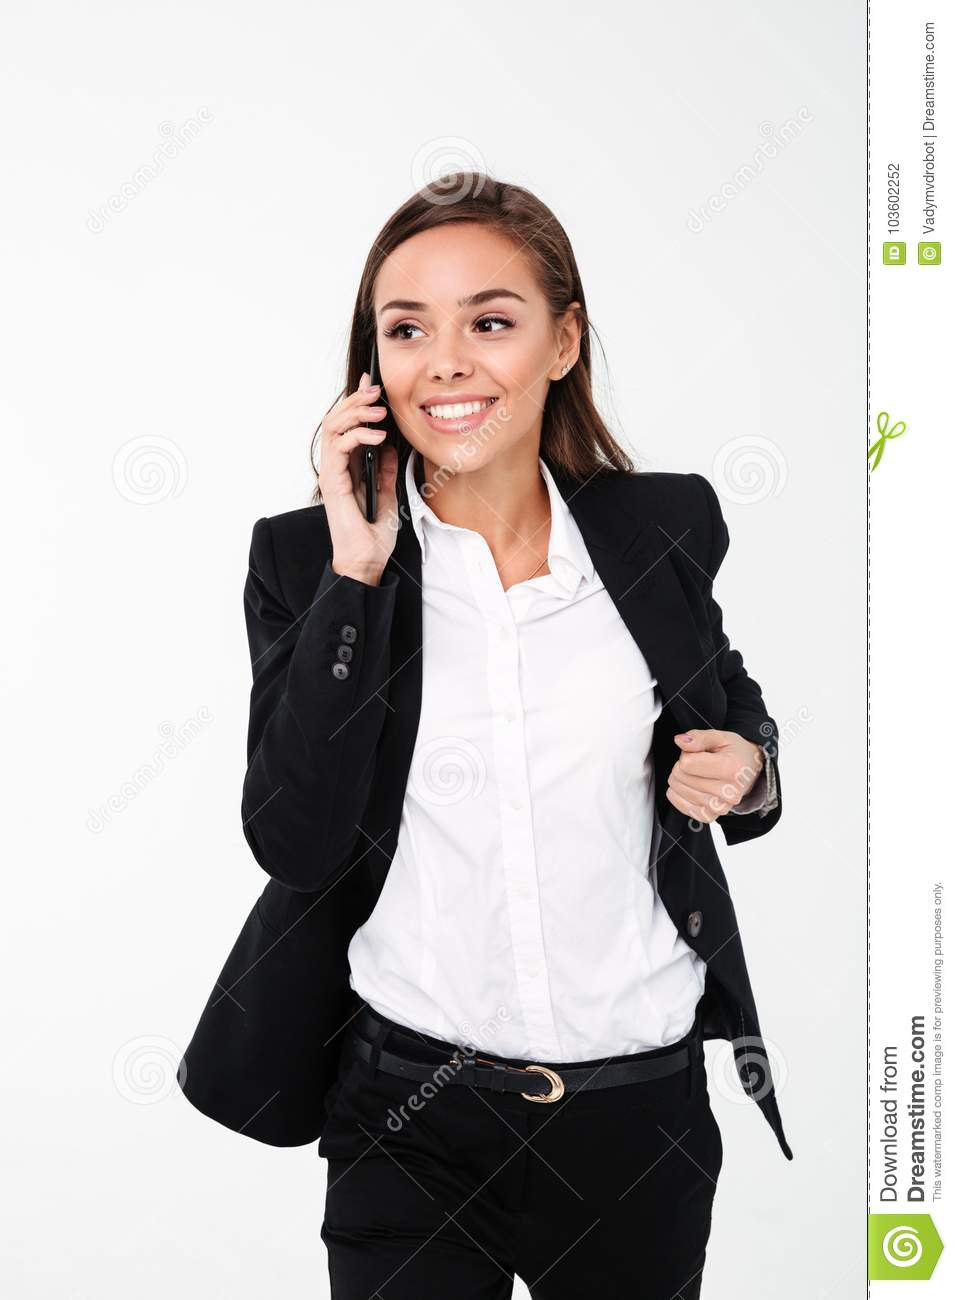phone: (353, 325, 394, 528)
talk: (315, 284, 538, 592)
